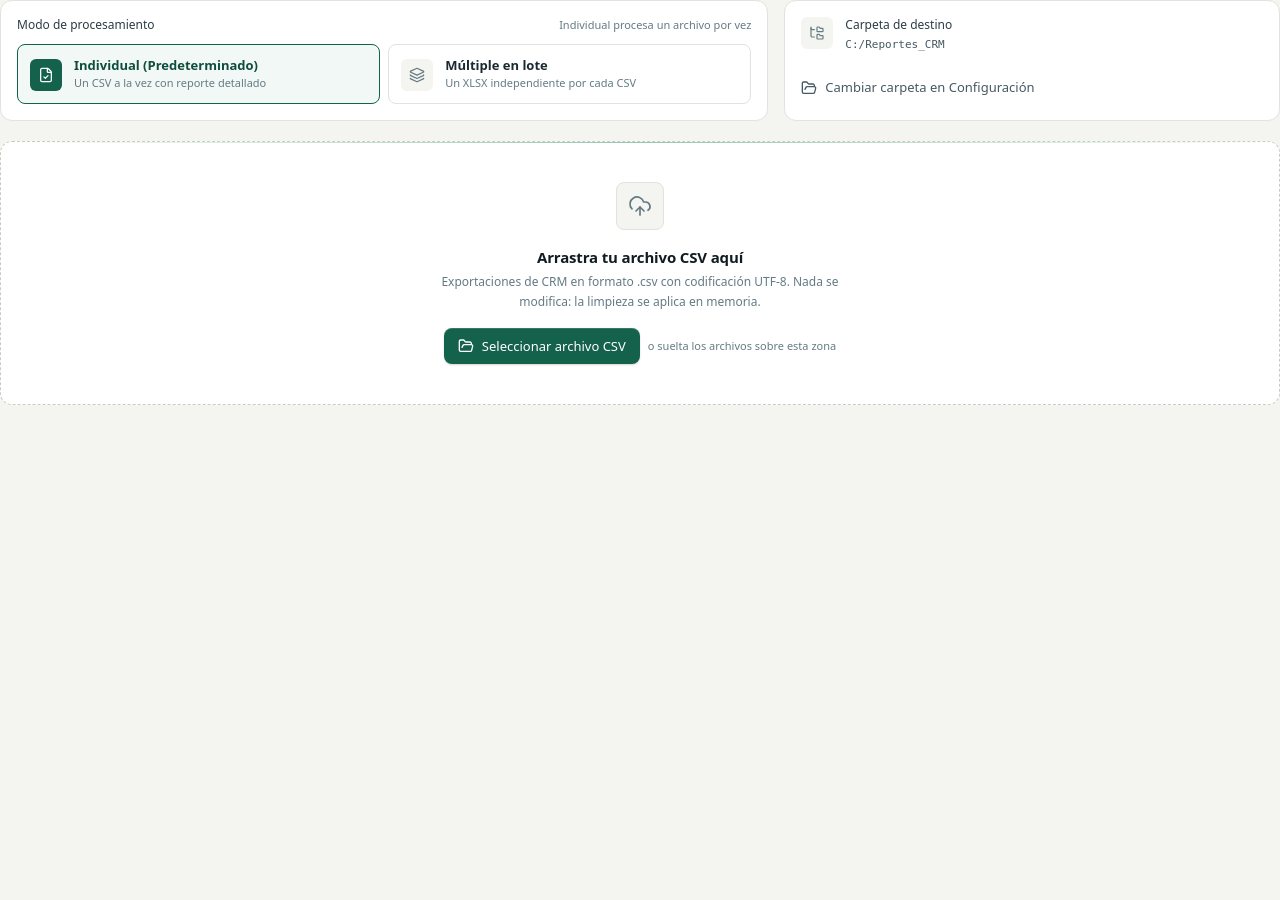
Test case: HomeScreen (Phase 4 Import and Modes) › shows resolution dialog when multiple files are selected in Individual mode
Click the button "Seleccionar archivo CSV": (542, 346) x1=444 y1=328 x2=640 y2=364
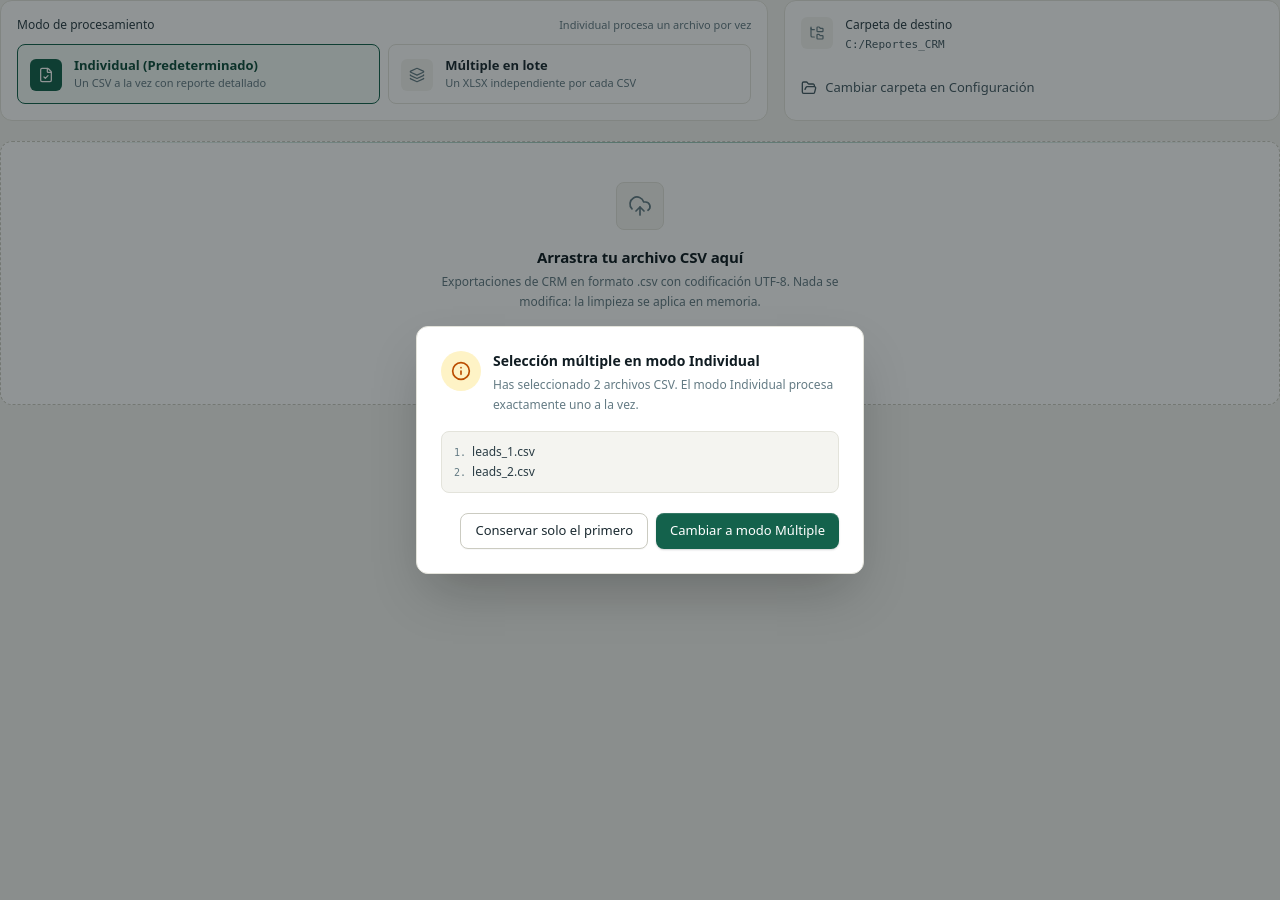
Expected: the heading "Selección múltiple en modo Individual" is shown, x1=493 y1=351 x2=760 y2=370
# Test choice: "Conservar solo el primero"
Click the button "Conservar solo el primero": (554, 531) x1=460 y1=513 x2=648 y2=549
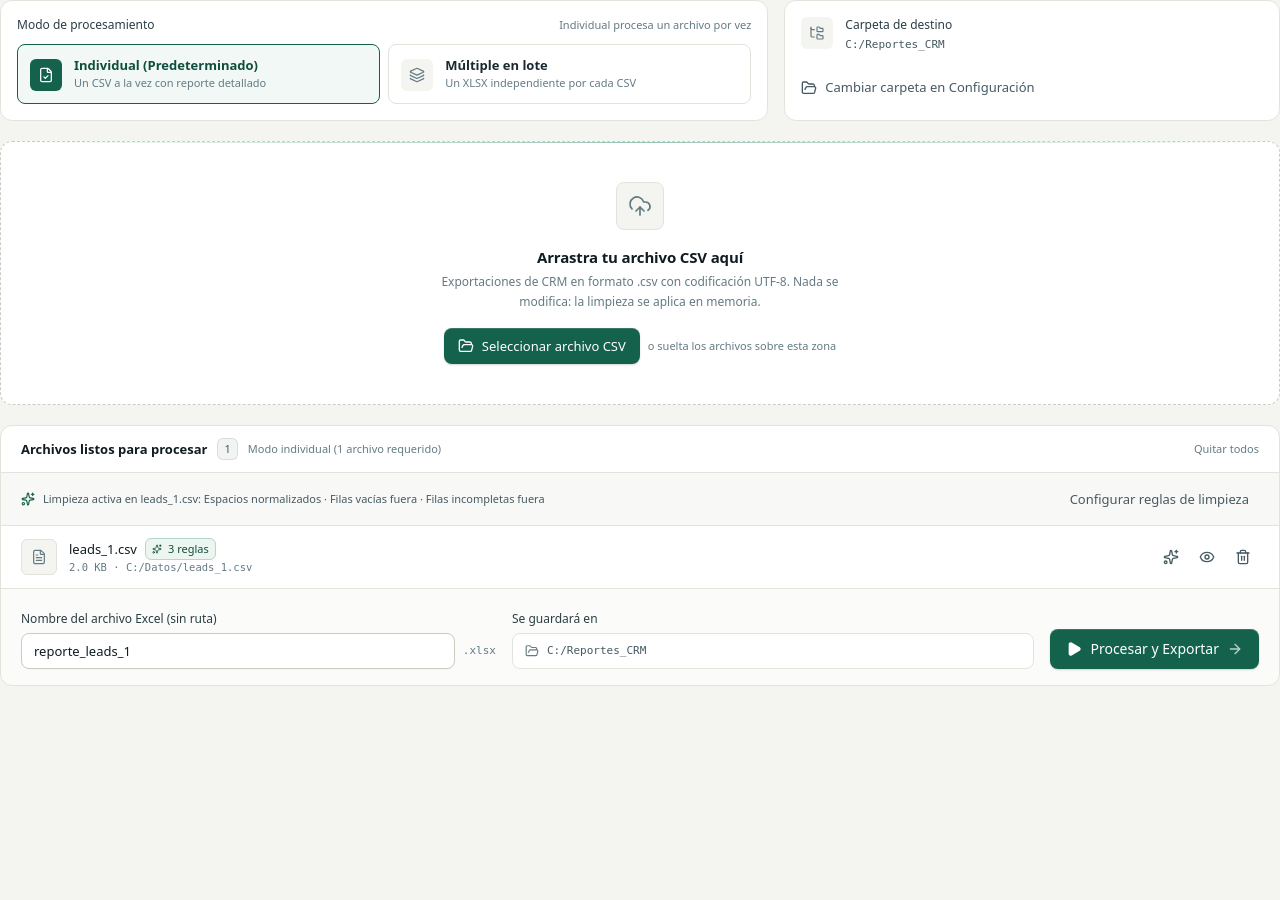
Expected: the heading "Selección múltiple en modo Individual" is gone
Expected: the text "leads_1.csv" is shown, x1=69 y1=540 x2=137 y2=559
Expected: the text "leads_2.csv" is gone
